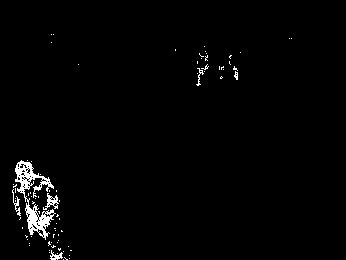person: (11, 159, 68, 260)
